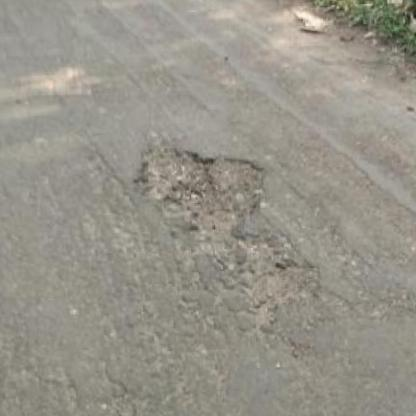pothole: (127, 138, 278, 235), (234, 227, 327, 324)
